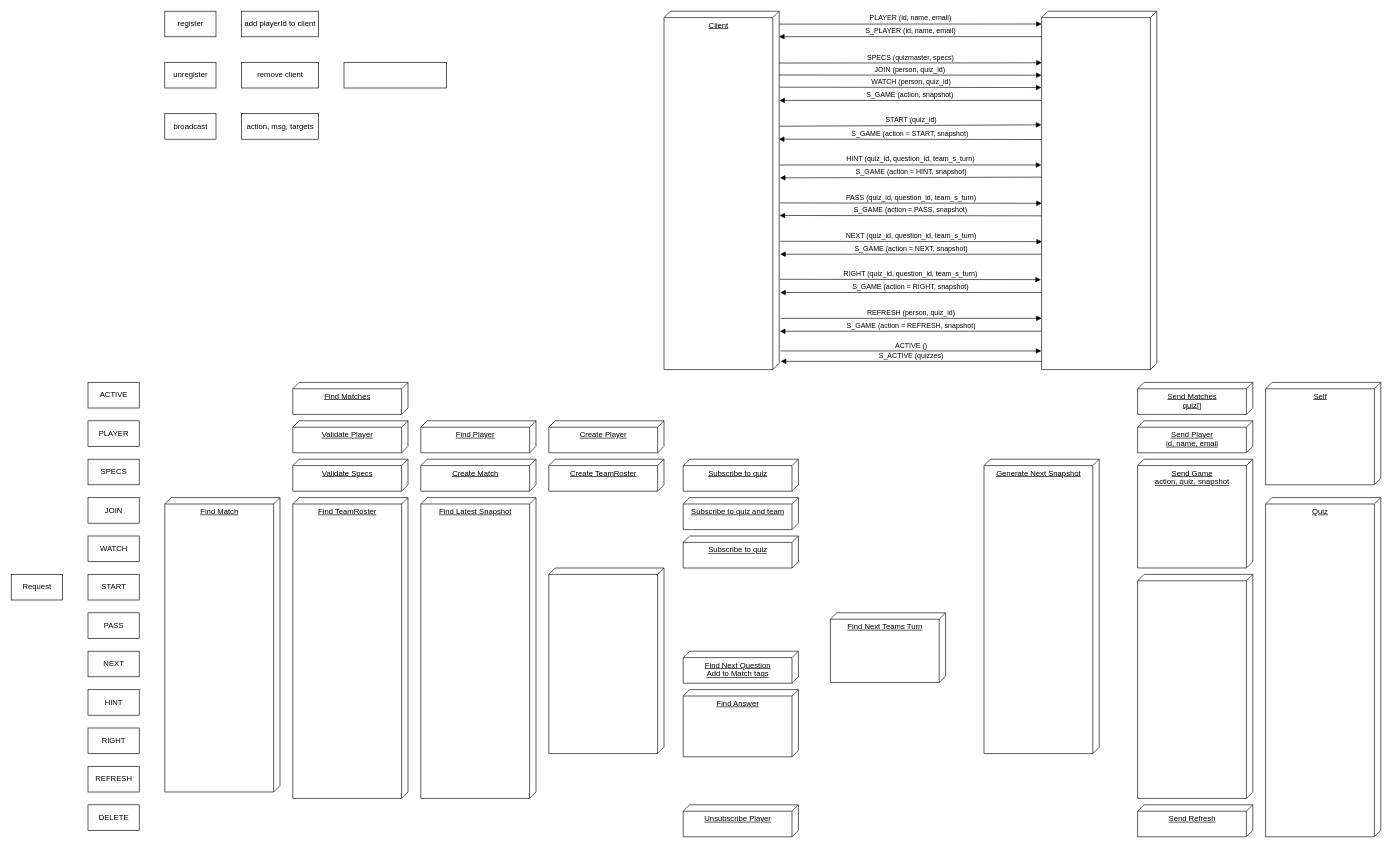
Image size: 1392x848. Some labels were removed from this diagram. Here are the shapes that lost their labels. From the top down, the centre of each, then its label:
At point 394,75: "Send DELETE request".
At point 1099,190: "Server".
At point 606,660: "Verify Snapshot Validate QuizId Validate TeamSTurn Validate QuestionId".
At point 1195,686: "Send Snapshot action, snapshot".
